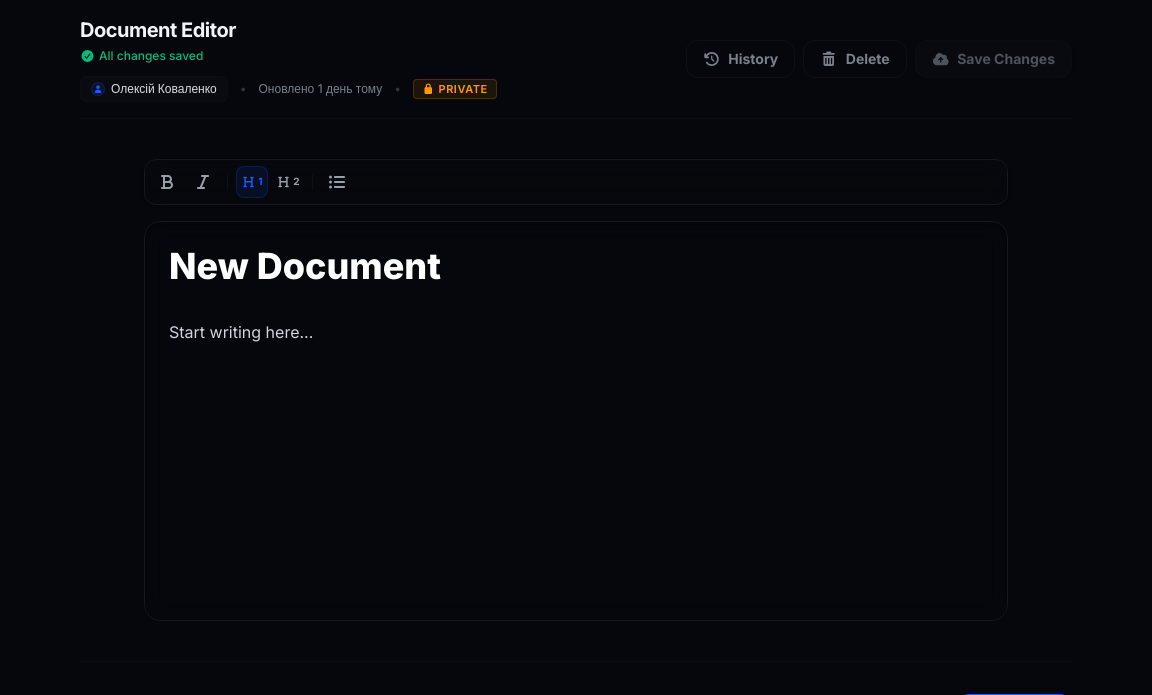
Scenario: Page Component: DocumentPage UI & Indicators › 6. Sub-task 3: При активації ревізії з’являється плашка-попередження, а клік на повернення скидає стан
Click the button "History".
click(741, 59)  # box [686,40,795,78]
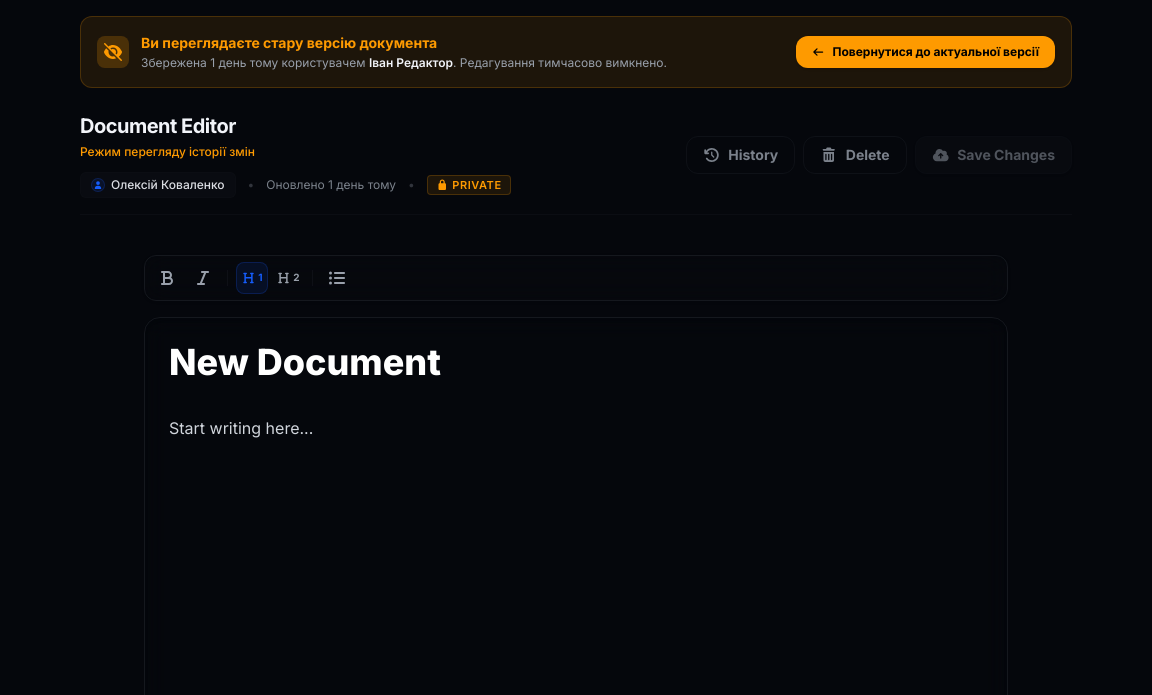
Expected: the button "Save Changes" is disabled, [915,136,1072,174]
Now the text "Ви переглядаєте стару версію документа" is shown, box [141,34,437,51]
Now the text "Іван Редактор" is shown, box [369,55,453,70]
Click the button "Повернутися до актуальної версії".
click(925, 52)  # box [796,36,1055,68]
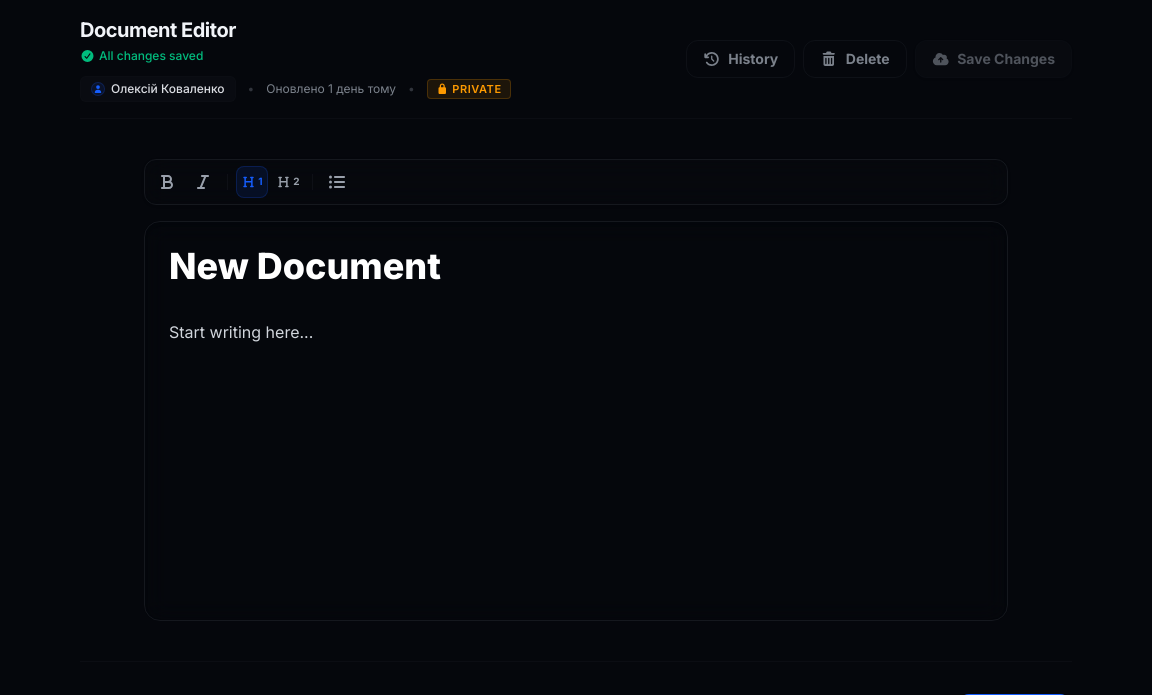
Now the text "стару версію документа" is gone
